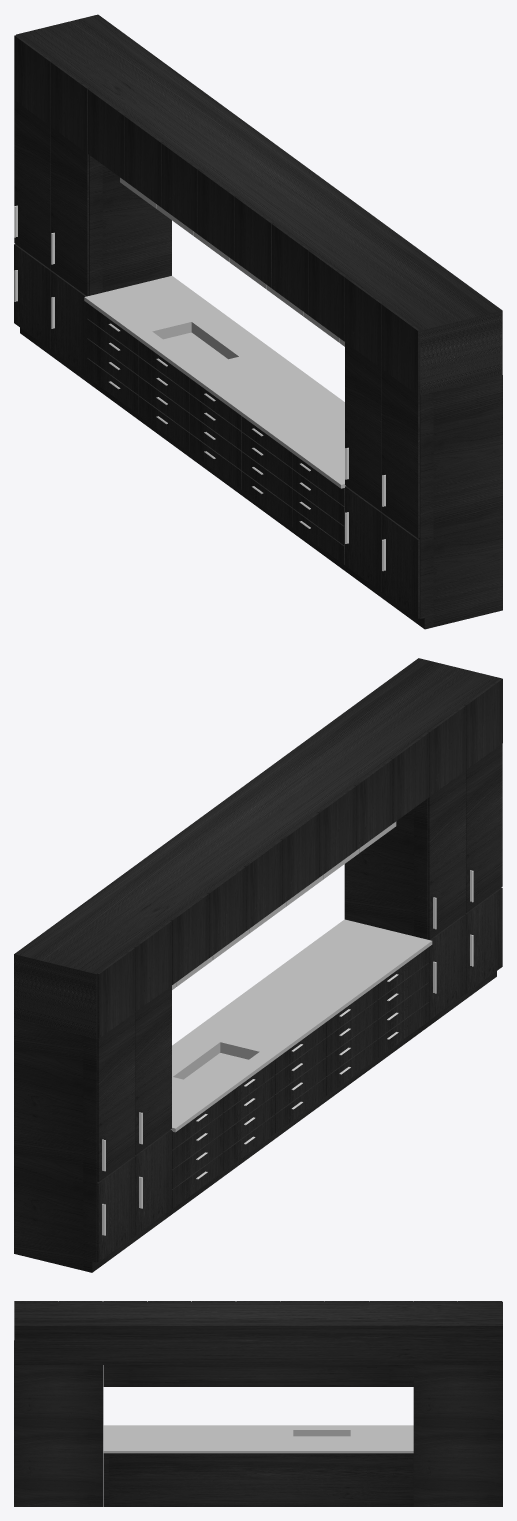
Rendered from kitchenV1.fbx.
3 views of the same model, one above another, from view 1: azimuth 30°, elevation 25°; view 2: azimuth 150°, elevation 25°; view 3: azimuth 270°, elevation 25° (orthographic). The views are drawn at different scales.
Visible parts, largest first — view 1: Cube.050, Cube.051, Cube.007, Cube.054, Cube.044, Cube.046, Cube.002, Cube.055, Cube.003, Cube.047, Cube.001, Cube.053 (+1 smaller); view 2: Cube.050, Cube.051, Cube.055, Cube.054, Cube.044, Cube.002, Cube.046, Cube.007, Cube.047, Cube.003, Cube.001, Cube.053; view 3: Cube.050, Cube.001, Cube.007, Cube.055, Cube.054, Cube.057, Cube.051.
Part boxes in pixels (box(x1,y1,x2,y2)): Cube.050: box(16, 14, 502, 394); Cube.051: box(14, 35, 420, 395); Cube.007: box(350, 375, 502, 629); Cube.054: box(84, 276, 345, 488); Cube.044: box(87, 303, 344, 564); Cube.046: box(14, 100, 88, 296); Cube.002: box(345, 342, 419, 538); Cube.055: box(20, 155, 171, 386); Cube.003: box(345, 486, 419, 618); Cube.047: box(14, 244, 87, 376); Cube.001: box(94, 382, 350, 574); Cube.053: box(120, 177, 344, 346); Cube.050: box(14, 658, 500, 1038); Cube.051: box(97, 678, 502, 1038); Cube.055: box(14, 1018, 166, 1272); Cube.054: box(170, 919, 432, 1132); Cube.044: box(172, 947, 429, 1208); Cube.002: box(428, 744, 502, 939); Cube.046: box(97, 986, 171, 1181); Cube.007: box(344, 798, 496, 1030); Cube.047: box(97, 1130, 171, 1262); Cube.003: box(429, 887, 502, 1019); Cube.001: box(166, 1026, 422, 1218); Cube.053: box(172, 821, 396, 989); Cube.050: box(14, 1301, 502, 1364); Cube.001: box(103, 1453, 413, 1506); Cube.007: box(14, 1340, 103, 1506); Cube.055: box(413, 1365, 502, 1506); Cube.054: box(103, 1425, 413, 1453); Cube.057: box(103, 1365, 413, 1386); Cube.051: box(14, 1301, 501, 1301).
Bounding box in the file's own units: 170 × 552 × 1352.
